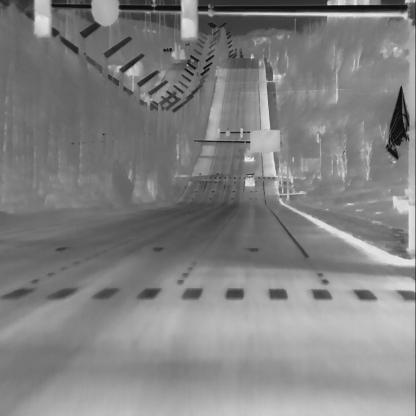car: (242, 146, 254, 163), (244, 173, 256, 188), (248, 52, 255, 61)
